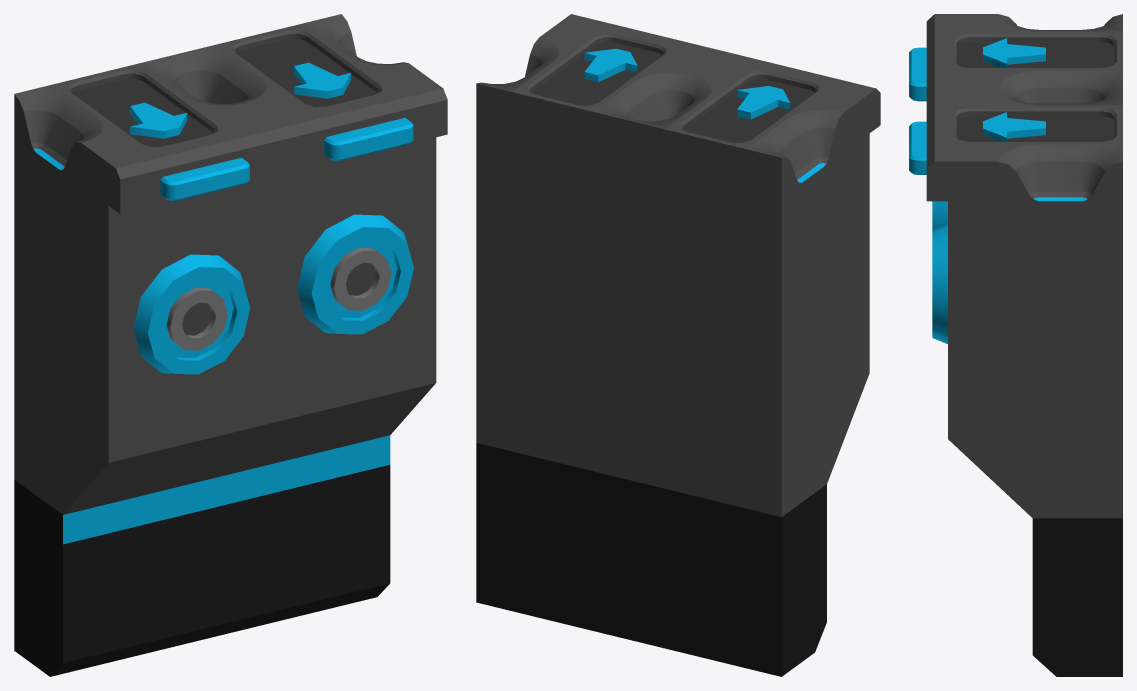
The model's file is Floor_Edge_Output_01.fbx.
The picture shows the model from 3 angles, left to right: view 1: azimuth 30°, elevation 25°; view 2: azimuth 150°, elevation 25°; view 3: azimuth 270°, elevation 25°; orthographic projection. The views are drawn at different scales.
Visible parts, largest first — view 1: Floor_Edge_Output_01; view 2: Floor_Edge_Output_01; view 3: Floor_Edge_Output_01.
Boxes of the visible parts, left/top/right/bottom form: Floor_Edge_Output_01: left=14, top=14, right=447, bottom=676; Floor_Edge_Output_01: left=476, top=14, right=880, bottom=676; Floor_Edge_Output_01: left=909, top=14, right=1122, bottom=676.
Bounding box in the file's own units: 400 × 650 × 245.
